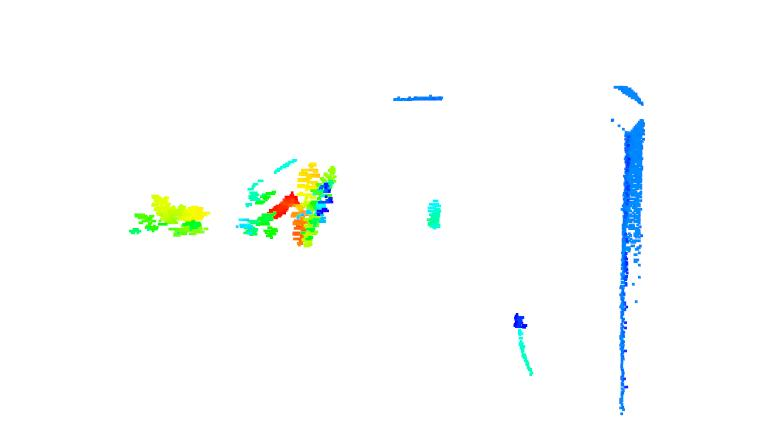chickpea: (236, 158, 338, 252), (123, 190, 213, 241), (421, 190, 450, 237)
